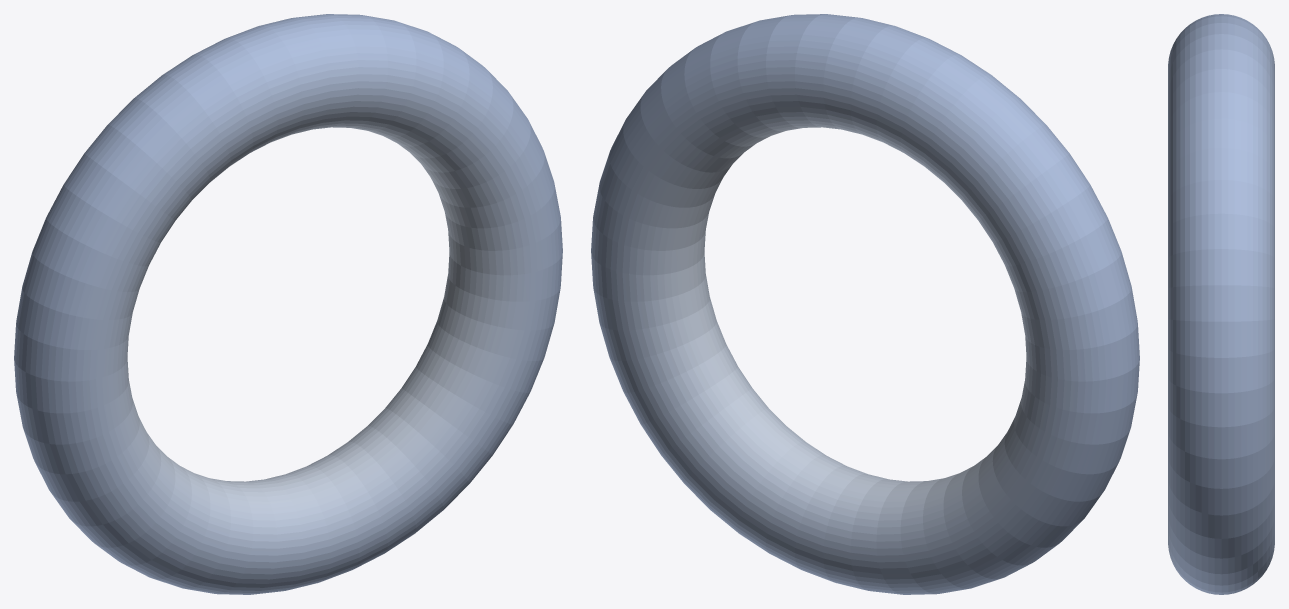
The picture shows the model from 3 angles, left to right: view 1: azimuth 30°, elevation 25°; view 2: azimuth 150°, elevation 25°; view 3: azimuth 270°, elevation 25°; orthographic projection. The views are drawn at different scales.
Visible parts, largest first — view 1: world; view 2: world; view 3: world.
Boxes of the visible parts, <box> form: world: <box>14,14,562,594</box>; world: <box>591,14,1139,594</box>; world: <box>1168,14,1274,594</box>.
Size of the model in its own units: 25.33 by 25.28 by 4.66.
